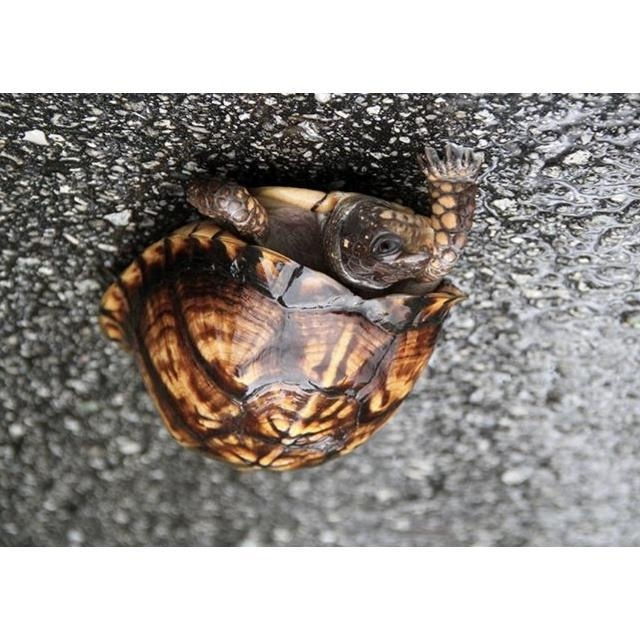turtle: (96, 144, 483, 472)
